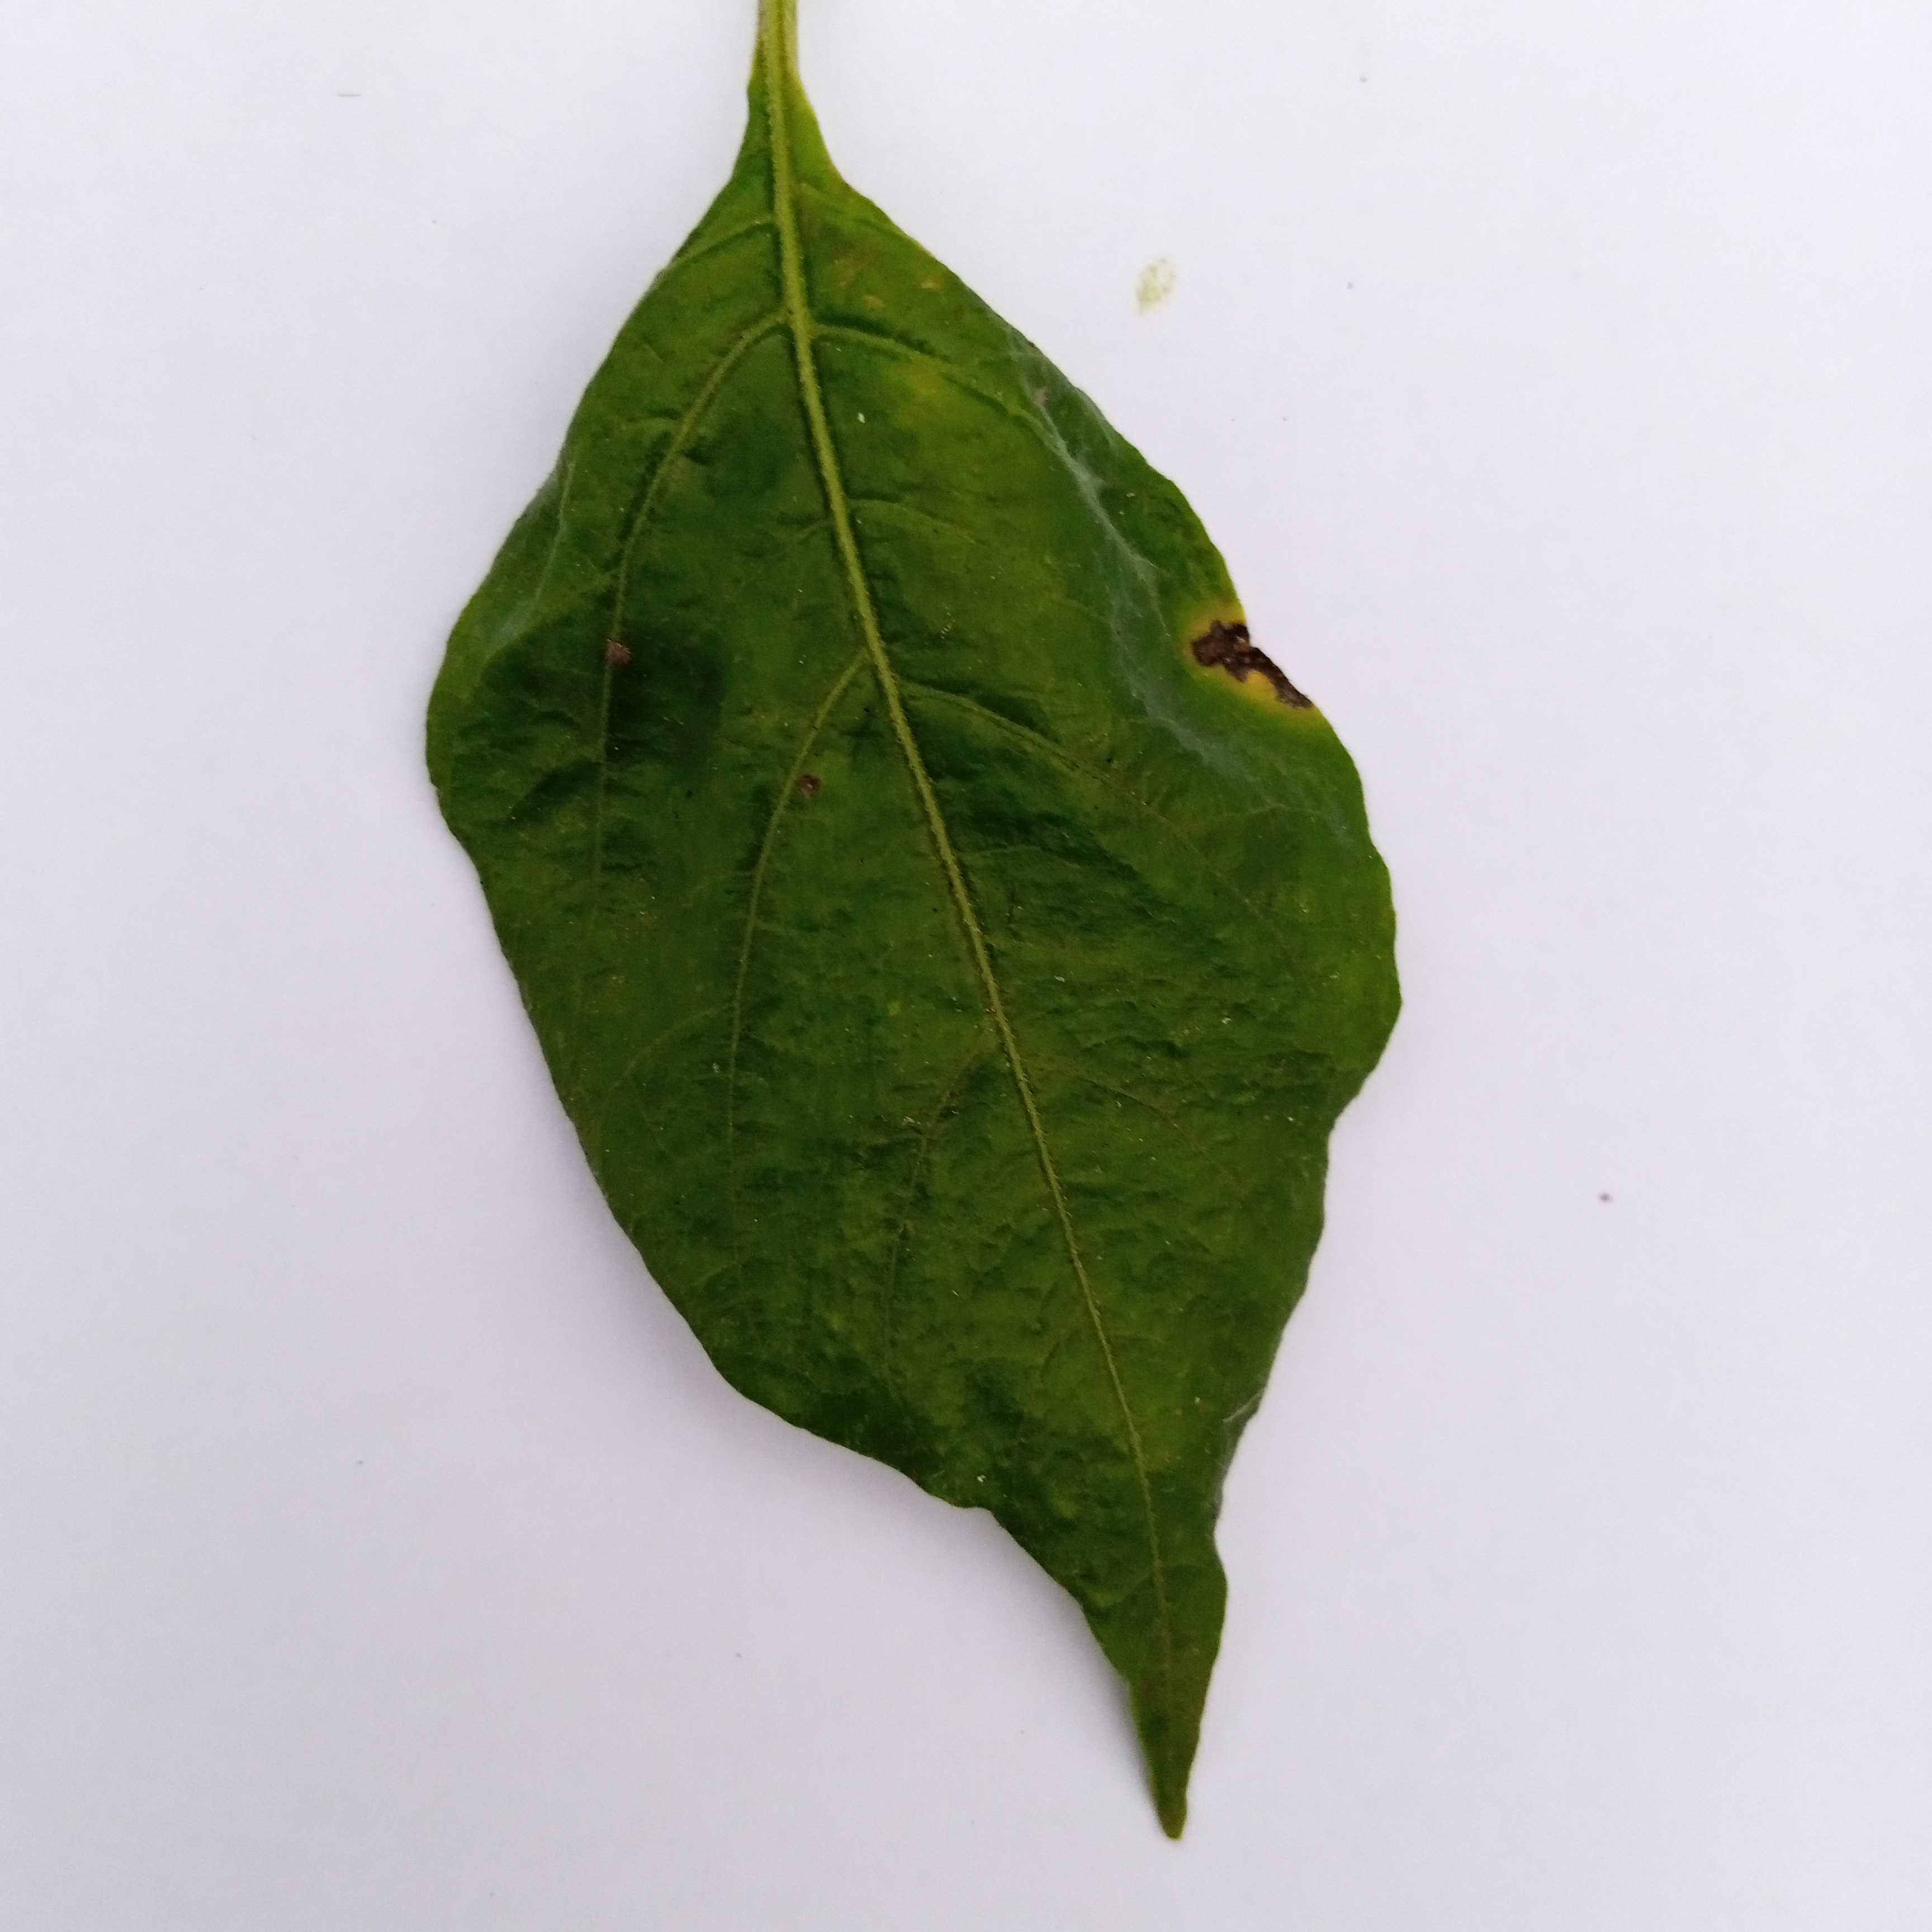Leaf: (306, 103, 1573, 1881)
